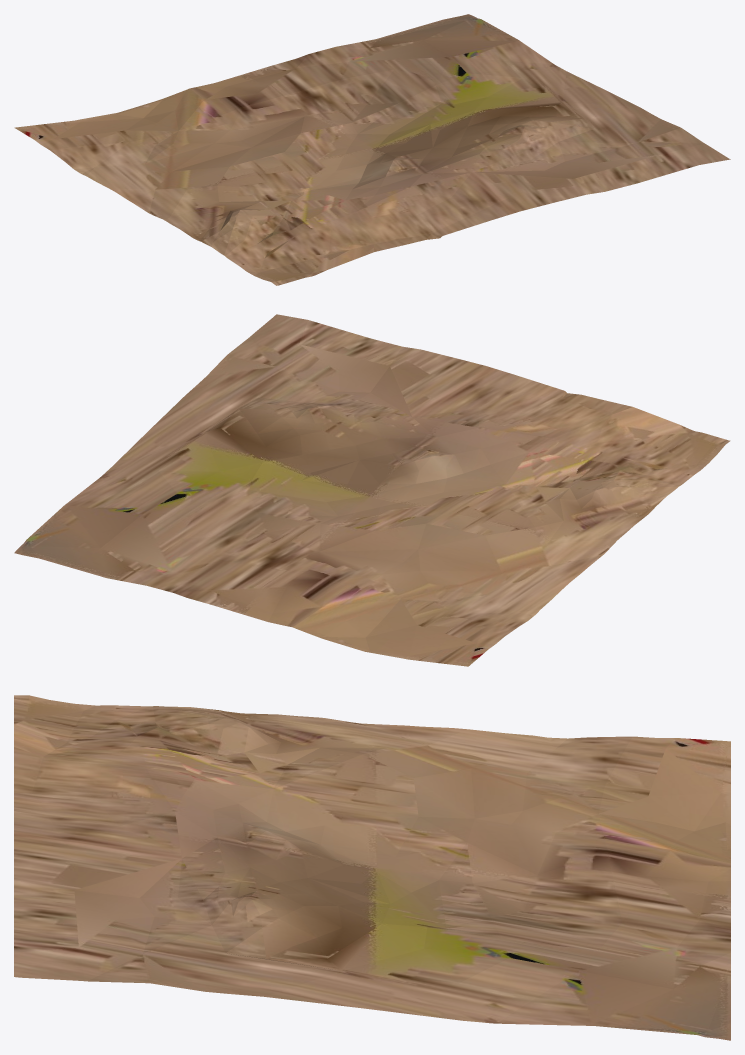
The picture shows the model from 3 angles, top to bottom: view 1: azimuth 30°, elevation 25°; view 2: azimuth 150°, elevation 25°; view 3: azimuth 270°, elevation 25°; orthographic projection. The views are drawn at different scales.
Bounding box in the file's own units: 2.09 × 0.2719 × 2.09.
Materials: 3 (3 with a texture image).
